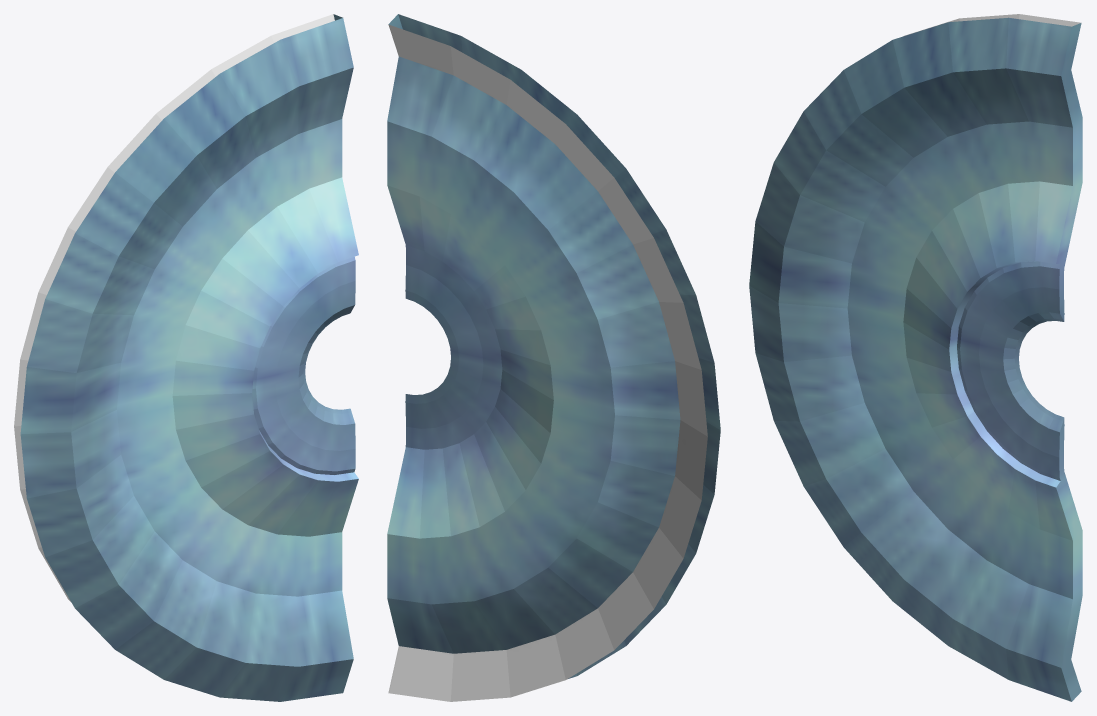
The model's file is iris_right.FBX.
3 views of the same model, side by side, from view 1: azimuth 30°, elevation 25°; view 2: azimuth 150°, elevation 25°; view 3: azimuth 330°, elevation 25° (orthographic).
Parts seen in each view (by area): view 1: ChloroidRight; view 2: ChloroidRight; view 3: ChloroidRight.
Part boxes in pixels (bbox=[...]): ChloroidRight: bbox=[14, 14, 358, 701]; ChloroidRight: bbox=[387, 14, 720, 701]; ChloroidRight: bbox=[749, 14, 1082, 701].
Bounding box in the file's own units: 0.4917 × 0.9834 × 0.0704.
Materials: 1 (1 with a texture image).
